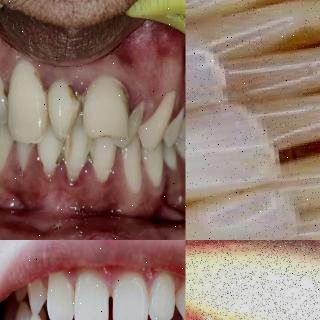Gum Swelling: (0, 50, 186, 126), (0, 141, 167, 210)
calculus: (66, 82, 100, 126), (114, 72, 137, 122), (46, 136, 76, 174), (32, 68, 56, 105), (79, 138, 103, 170), (125, 100, 146, 136), (0, 79, 13, 109)
maligned: (85, 69, 131, 142), (48, 78, 80, 143), (116, 100, 144, 148)
